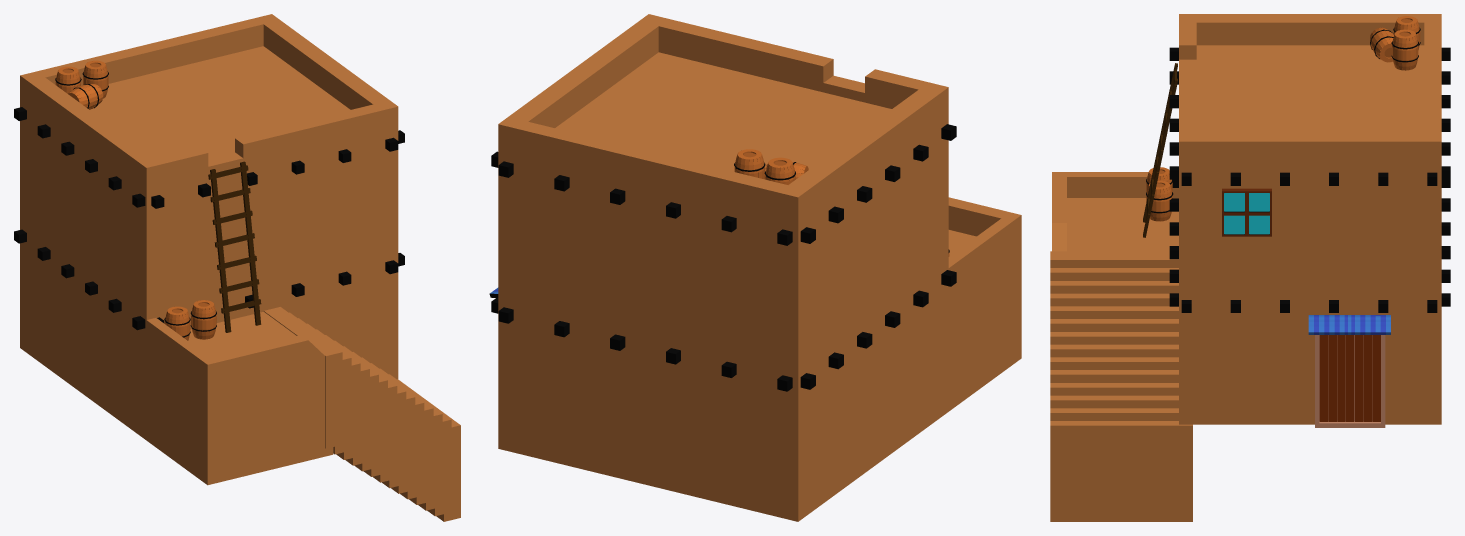
File: House.fbx
The picture shows the model from 3 angles, left to right: view 1: azimuth 30°, elevation 25°; view 2: azimuth 150°, elevation 25°; view 3: azimuth 270°, elevation 25°; orthographic projection. The views are drawn at different scales.
Parts seen in each view (by area): view 1: House; view 2: House; view 3: House.
Boxes of the visible parts, x1,y1,x2,y2 form: House: (14, 14, 460, 521); House: (489, 14, 1021, 521); House: (1050, 14, 1450, 521).
Bounding box in the file's own units: 349 × 429 × 400.
